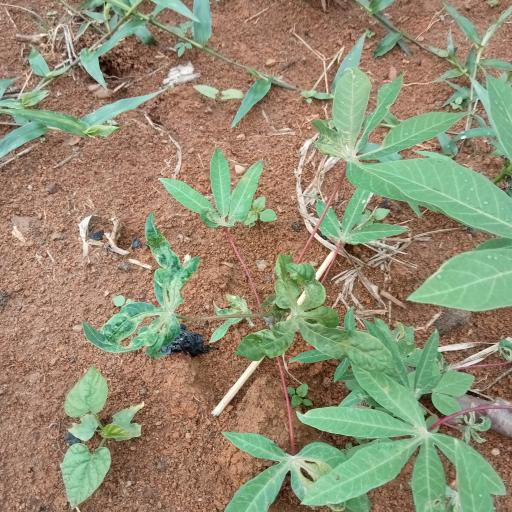Cassava_Mosaic: (304, 359, 505, 512), (318, 62, 456, 184), (246, 260, 390, 370), (220, 427, 360, 512), (168, 144, 264, 232)
